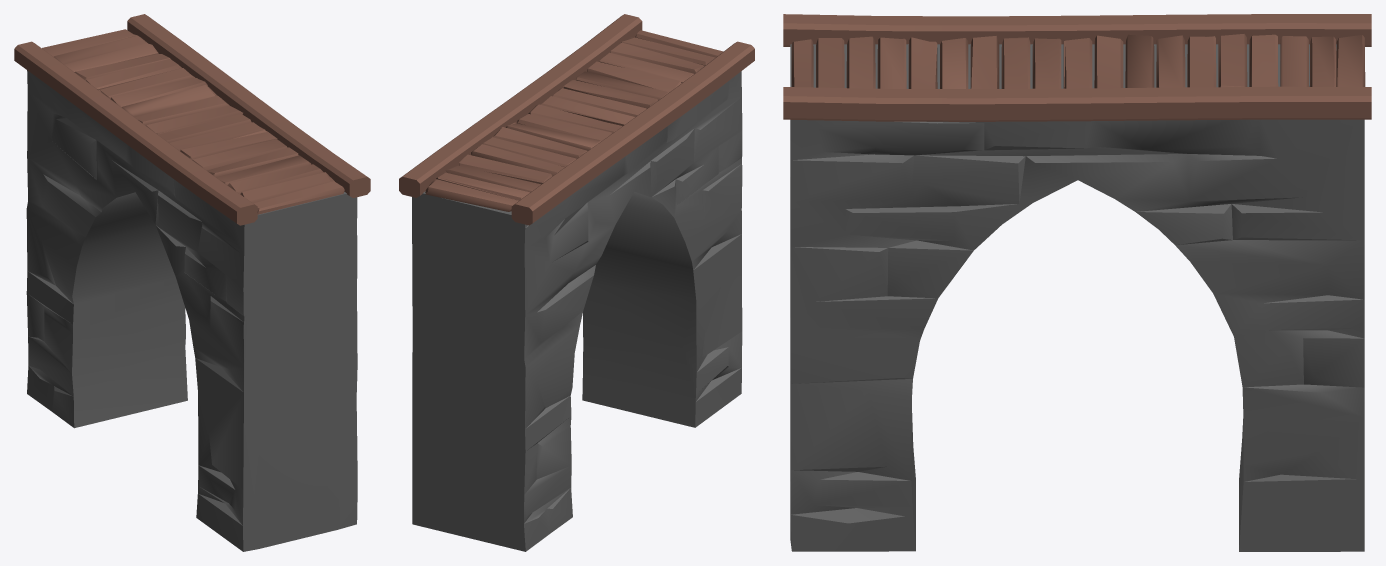
Rendered from civilian_bridge_4_c.FBX.
The picture shows the model from 3 angles, left to right: view 1: azimuth 30°, elevation 25°; view 2: azimuth 150°, elevation 25°; view 3: azimuth 270°, elevation 25°; orthographic projection. The views are drawn at different scales.
Visible parts, largest first — view 1: civilian_bridge_4_c_LOD0; view 2: civilian_bridge_4_c_LOD0; view 3: civilian_bridge_4_c_LOD0.
Boxes of the visible parts, <box> form: civilian_bridge_4_c_LOD0: <box>14,14,370,551</box>; civilian_bridge_4_c_LOD0: <box>399,14,754,551</box>; civilian_bridge_4_c_LOD0: <box>783,14,1371,551</box>.
Size of what is drawn, in the model's own units: 235 by 584 by 676.
